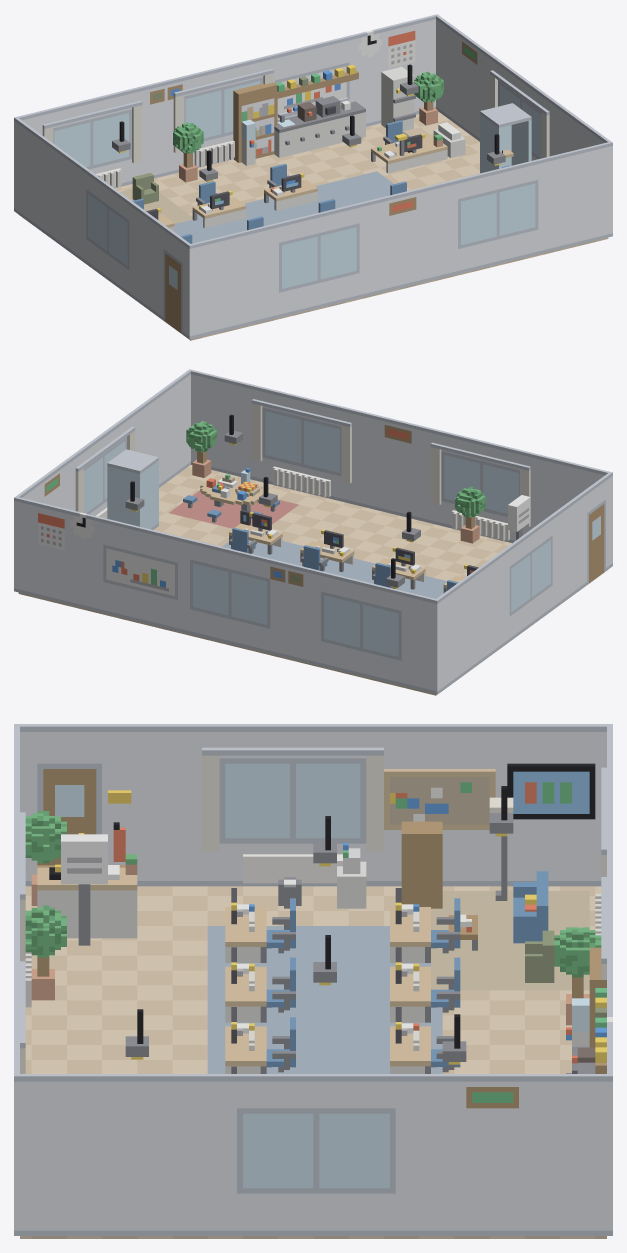
File: stanza.glb
The picture shows the model from 3 angles, top to bottom: view 1: azimuth 30°, elevation 25°; view 2: azimuth 150°, elevation 25°; view 3: azimuth 270°, elevation 25°; orthographic projection. The views are drawn at different scales.
Parts seen in each view (by area): view 1: Ufficio_parete_sud, Ufficio_parete_nord, Ufficio_arredo, Ufficio_parete_ovest, Ufficio_stanza, Ufficio_parete_est; view 2: Ufficio_parete_nord, Ufficio_parete_sud, Ufficio_stanza, Ufficio_parete_ovest, Ufficio_arredo, Ufficio_parete_est; view 3: Ufficio_parete_est, Ufficio_parete_ovest, Ufficio_stanza, Ufficio_arredo, Ufficio_parete_nord, Ufficio_parete_sud.
Part boxes in pixels (x1,y1,x2,y2): Ufficio_parete_sud: (191,142,609,338); Ufficio_parete_nord: (14,15,435,211); Ufficio_arredo: (112,64,531,243); Ufficio_parete_ovest: (15,118,192,339); Ufficio_stanza: (19,111,608,340); Ufficio_parete_est: (435,14,612,236); Ufficio_parete_nord: (17,497,438,694); Ufficio_parete_sud: (191,370,609,543); Ufficio_stanza: (18,465,607,695); Ufficio_parete_ovest: (436,472,612,692); Ufficio_arredo: (107,414,530,592); Ufficio_parete_est: (14,369,191,591); Ufficio_parete_est: (14,1074,612,1235); Ufficio_parete_ovest: (14,724,606,886); Ufficio_stanza: (20,886,606,1238); Ufficio_arredo: (25,786,606,1073); Ufficio_parete_nord: (589,724,612,1073); Ufficio_parete_sud: (14,726,31,1073).
Size of the model in its own units: 14.2 by 3.1 by 10.2.
